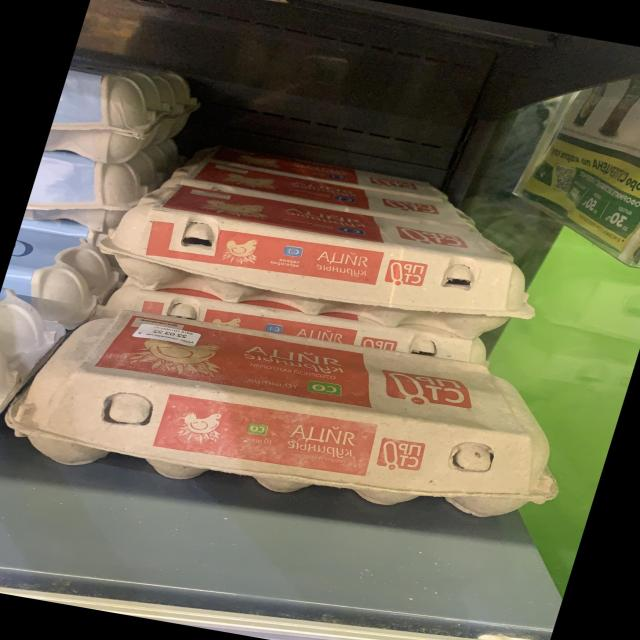organic waste: (0, 289, 595, 546), (90, 170, 554, 349)
